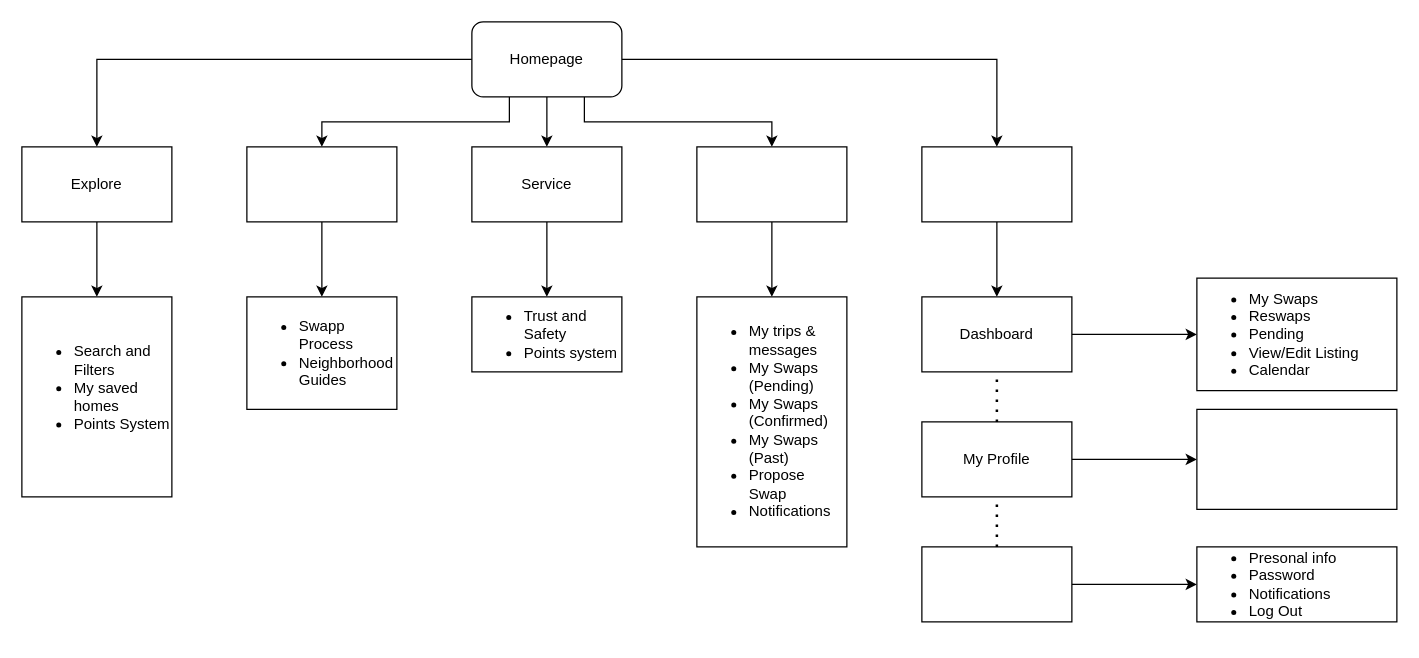
Image size: 1419x658. Some labels were removed from this diagram. The box of each missing label's shape, as (x1, y1, x2, y2) in pixels:
Account Settings: (921, 546, 1072, 622)
How It Works: (246, 146, 397, 222)
Messages: (696, 146, 847, 222)
User Menu: (921, 146, 1072, 222)
View/Edit Public Profile My rewievs: (1196, 408, 1397, 509)
